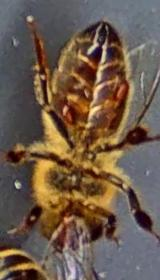varroa_mite: (52, 89, 82, 124), (106, 74, 134, 110)
